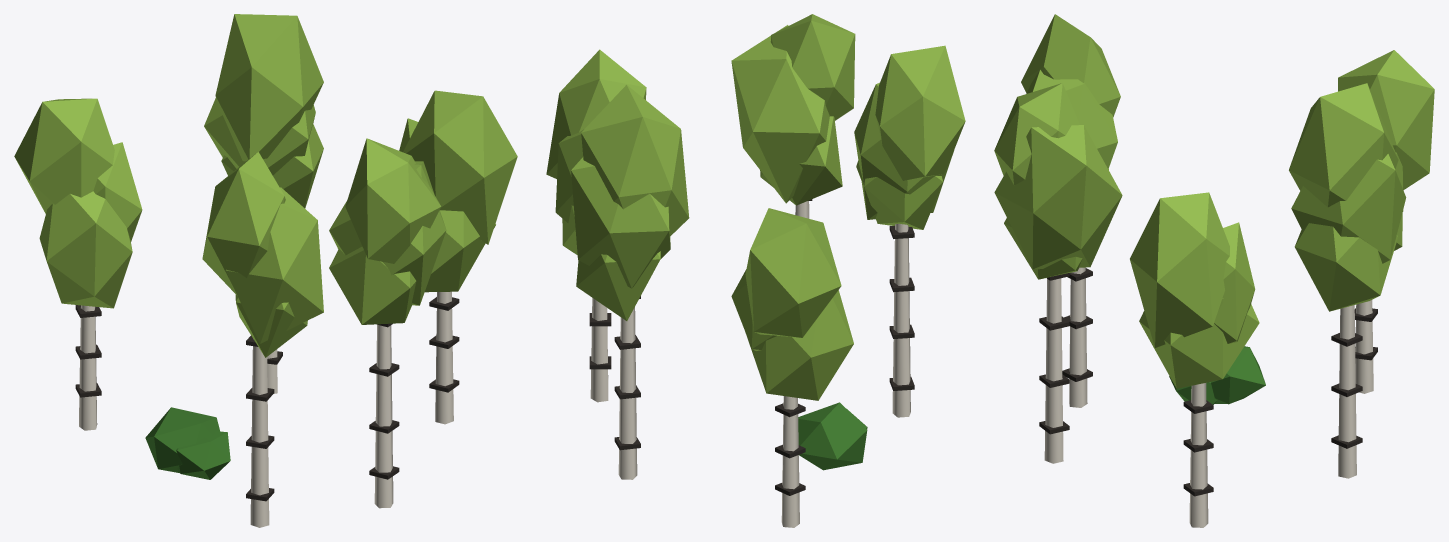
Rendered from sawyer_birch_copse_e.glb.
The picture shows the model from 3 angles, left to right: view 1: azimuth 30°, elevation 25°; view 2: azimuth 150°, elevation 25°; view 3: azimuth 270°, elevation 25°; orthographic projection.
Visible parts, largest first — view 1: birch_2_crown2, birch_5_crown2, birch_1_crown0, birch_1_crown2, birch_0_crown1, birch_3_crown2, birch_0_crown2, birch_3_crown0, birch_3_crown1, birch_5_crown0, birch_3_trunk, birch_0_trunk (+8 smaller); view 2: birch_3_crown1, birch_2_crown2, birch_1_crown2, birch_0_crown2, birch_2_crown1, birch_1_crown0, birch_3_crown2, birch_5_crown2, bush_4_leaves1, birch_0_crown1, birch_0_trunk, birch_2_crown0 (+8 smaller); view 3: birch_3_crown1, birch_5_crown2, birch_2_crown2, birch_1_crown2, birch_2_crown1, birch_2_crown0, birch_0_crown2, birch_5_crown0, birch_3_crown2, birch_3_trunk, birch_5_crown1, birch_2_trunk (+6 smaller).
Part boxes in pixels (x1,y1,x2,y2): birch_2_crown2: [215, 14, 323, 161]; birch_5_crown2: [403, 90, 517, 244]; birch_1_crown0: [39, 191, 132, 308]; birch_1_crown2: [14, 98, 114, 213]; birch_0_crown1: [225, 187, 323, 343]; birch_3_crown2: [345, 138, 441, 263]; birch_0_crown2: [202, 152, 285, 295]; birch_3_crown0: [329, 246, 416, 324]; birch_3_crown1: [329, 161, 446, 305]; birch_5_crown0: [425, 210, 495, 292]; birch_3_trunk: [374, 324, 393, 508]; birch_0_trunk: [250, 339, 269, 527]; birch_3_crown1: [731, 25, 829, 203]; birch_2_crown2: [581, 84, 689, 236]; birch_1_crown2: [745, 208, 841, 337]; birch_0_crown2: [875, 45, 965, 180]; birch_2_crown1: [571, 157, 670, 288]; birch_1_crown0: [746, 290, 853, 400]; birch_3_crown2: [770, 14, 855, 120]; birch_5_crown2: [546, 49, 646, 178]; bush_4_leaves1: [798, 402, 867, 470]; birch_0_crown1: [854, 82, 954, 219]; birch_0_trunk: [892, 223, 910, 417]; birch_2_crown0: [576, 251, 660, 320]; birch_3_crown1: [994, 125, 1122, 269]; birch_5_crown2: [1130, 192, 1229, 347]; birch_2_crown2: [1289, 83, 1398, 207]; birch_1_crown2: [1338, 50, 1434, 189]; birch_2_crown1: [1291, 154, 1406, 263]; birch_2_crown0: [1294, 223, 1397, 311]; birch_0_crown2: [1021, 14, 1120, 117]; birch_5_crown0: [1139, 298, 1259, 388]; birch_3_crown2: [994, 83, 1079, 185]; birch_3_trunk: [1044, 278, 1063, 463]; birch_5_crown1: [1214, 222, 1255, 343]; birch_2_trunk: [1338, 305, 1356, 478].
Bounding box in the file's own units: 4.01 × 3.83 × 3.98.
